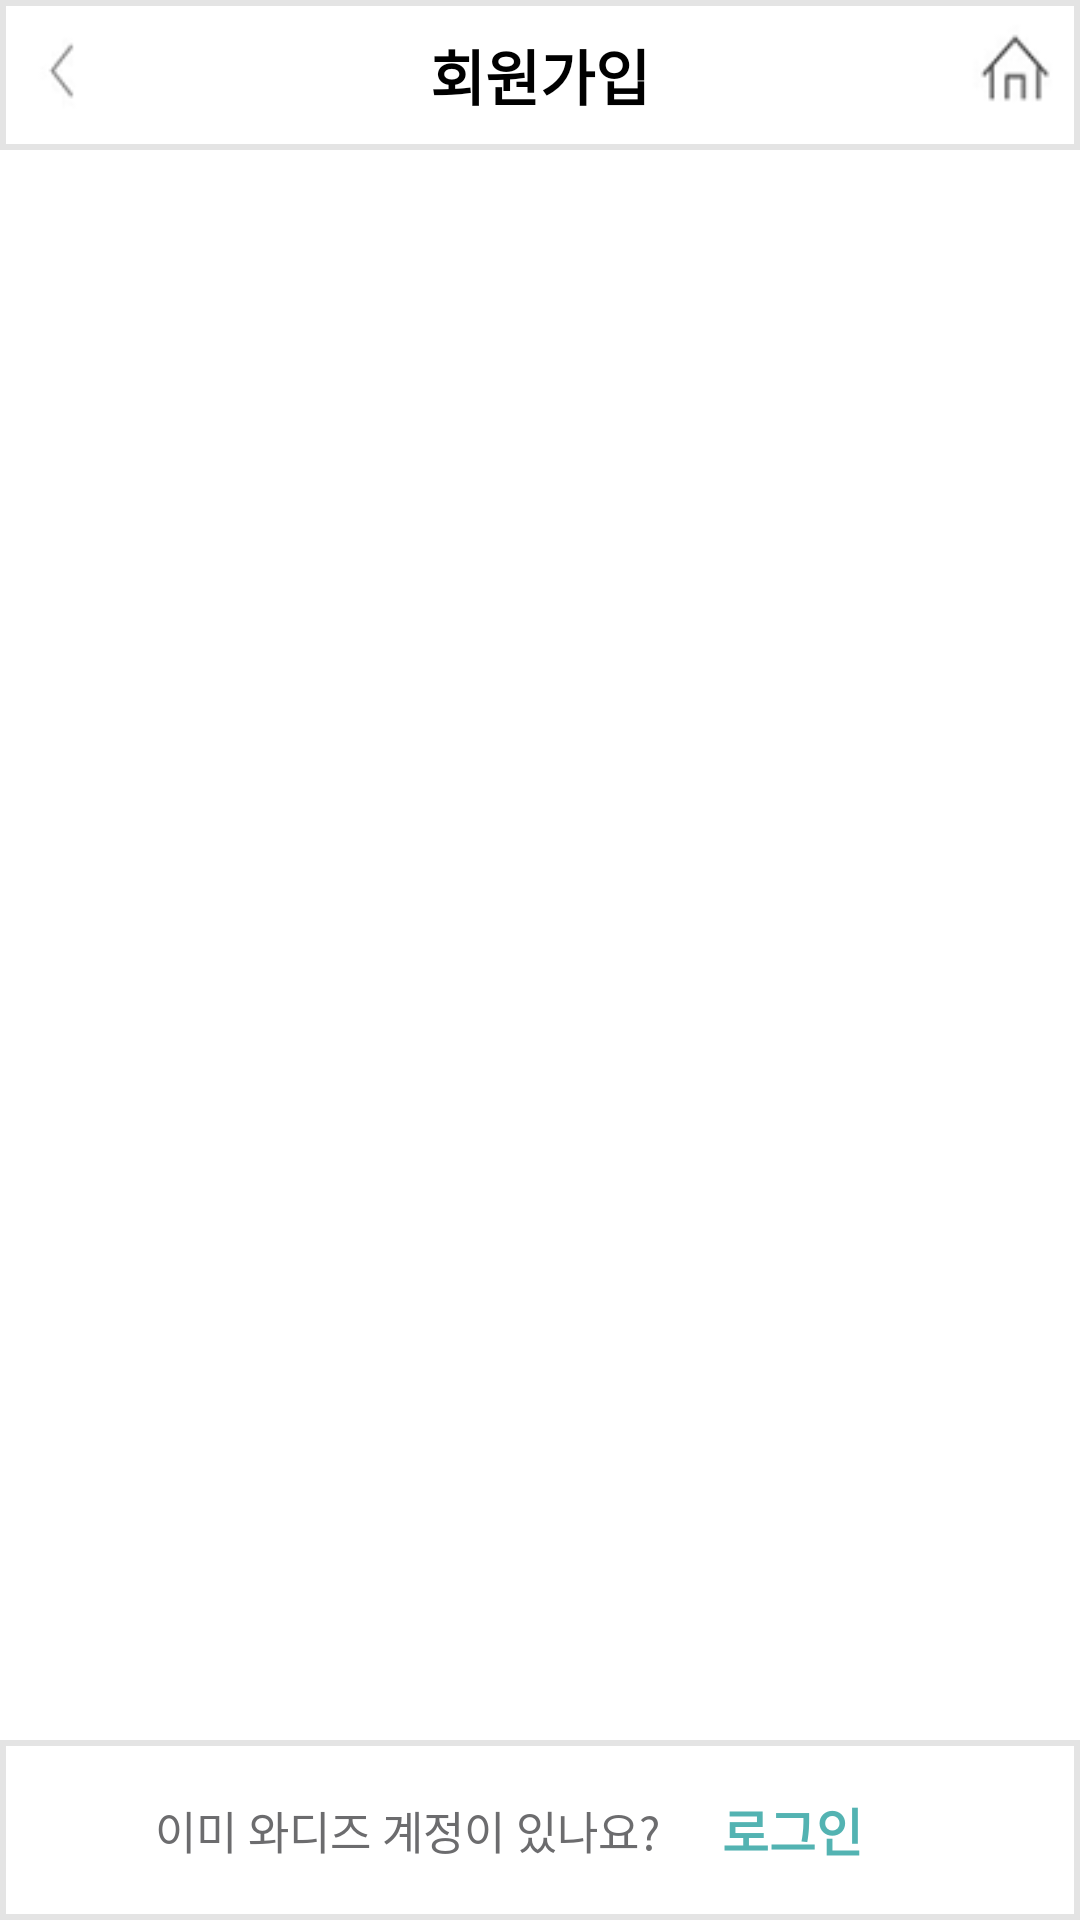

Icons on this 1080x1920 Android screen, each with the point to tap as (x,y):
home: (1015,68)
